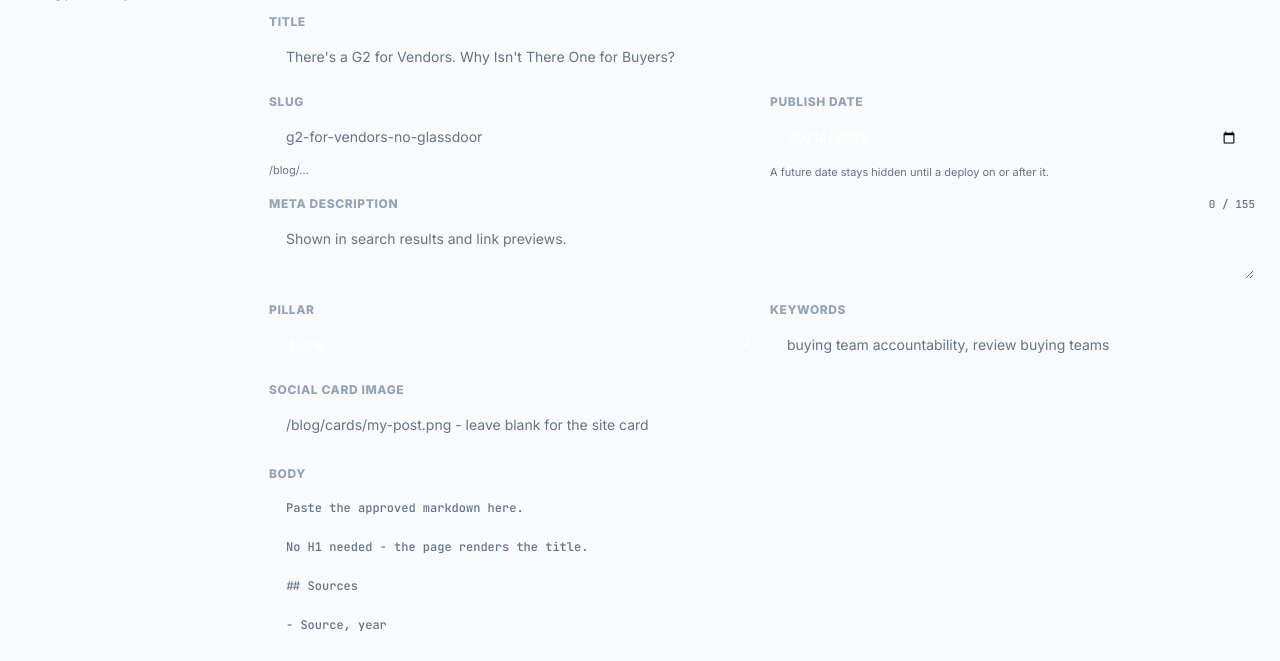
Test: BlogEditor › publishes the form values and surfaces the commit
In the field labelled "Title": {"x": 762, "y": 57} [269, 36, 1255, 78], type "A Good Post"
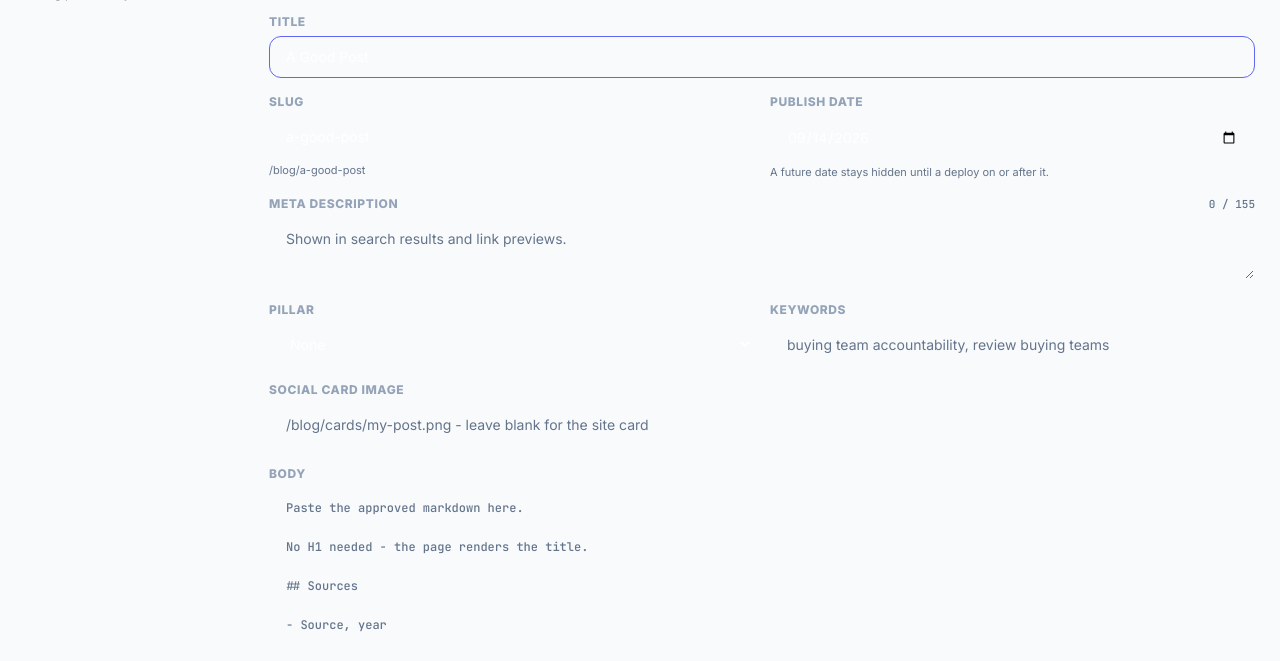
In the text box labelled "Meta description": {"x": 762, "y": 249} [269, 218, 1255, 280], type "What the post is about."
(page scrolled)
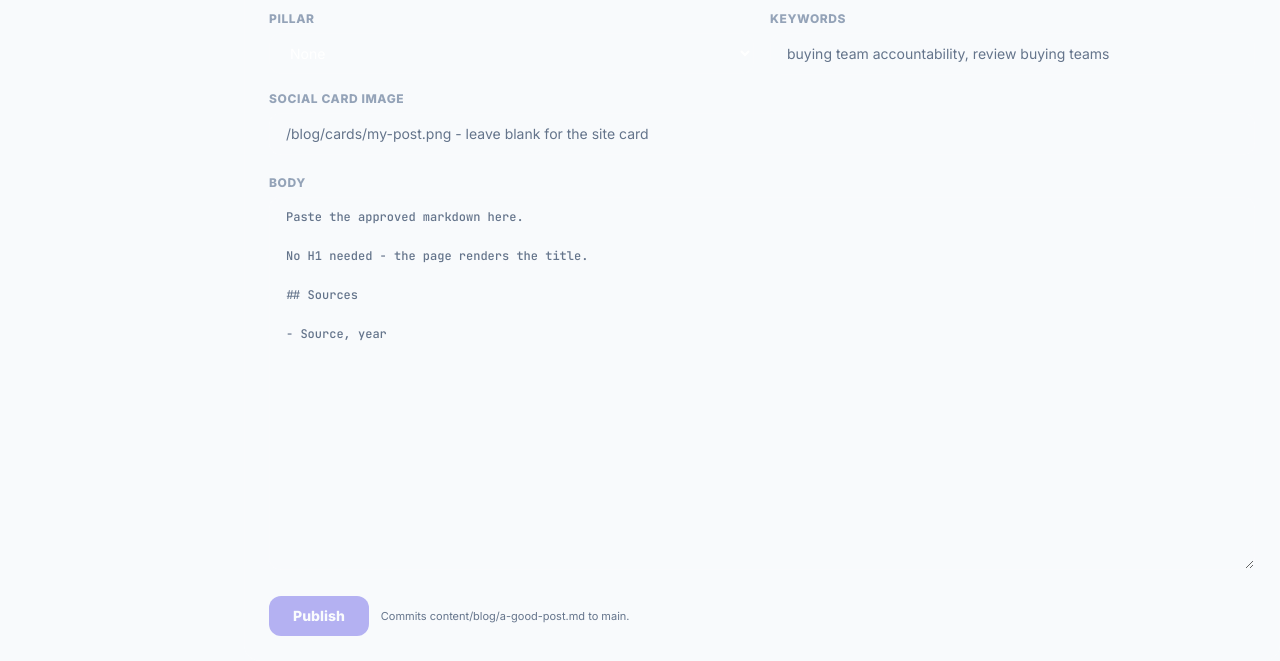
In the text box labelled "Body": {"x": 762, "y": 384} [269, 197, 1255, 570], type "Lead paragraph."
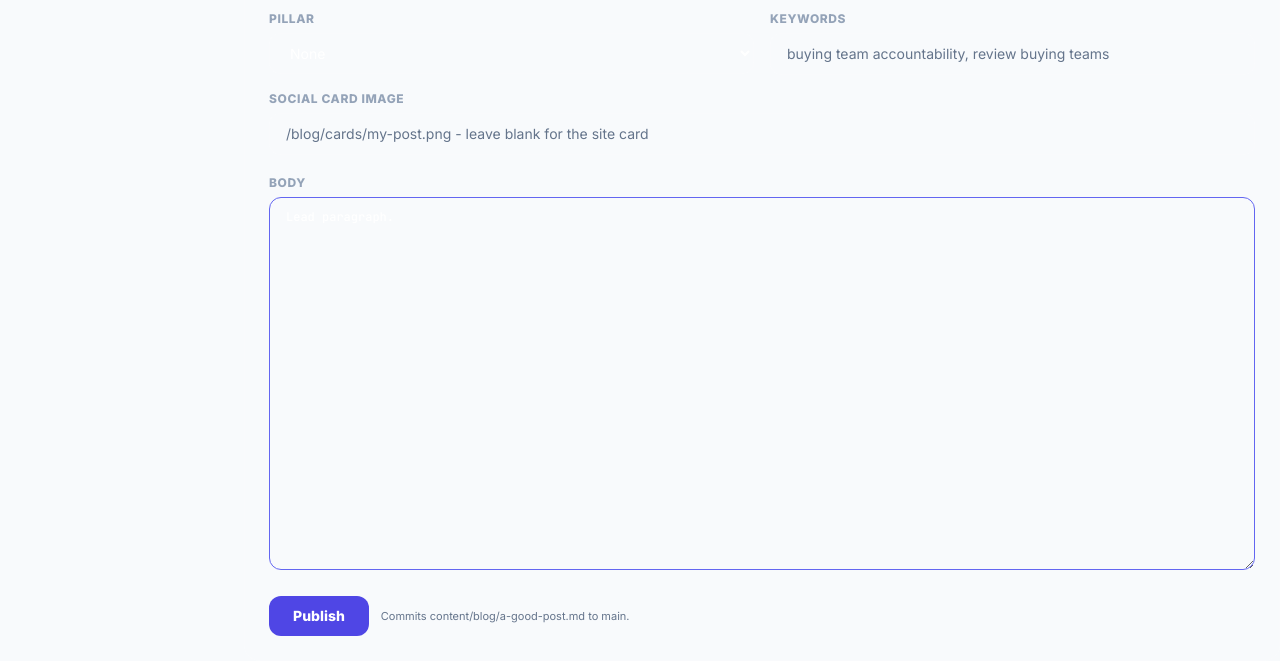
Click the button "Publish": {"x": 319, "y": 616} [269, 596, 369, 636]
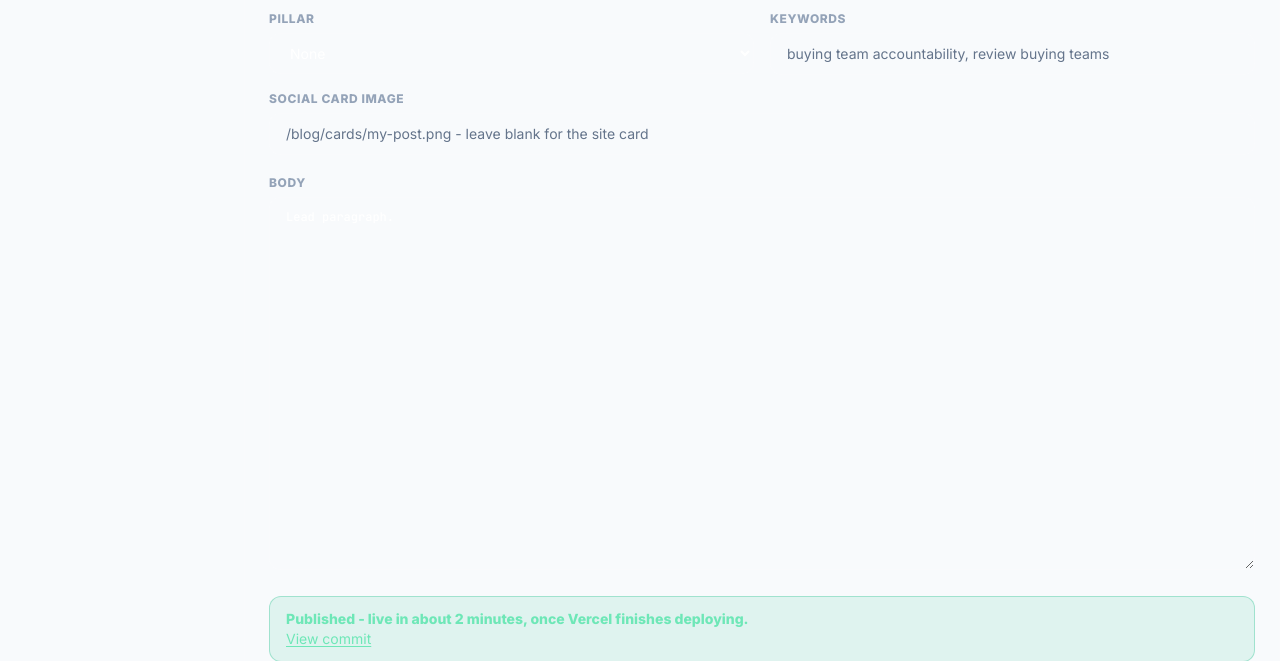
Check: the text "live in about 2 minutes" is shown, box [355, 610, 748, 627]
